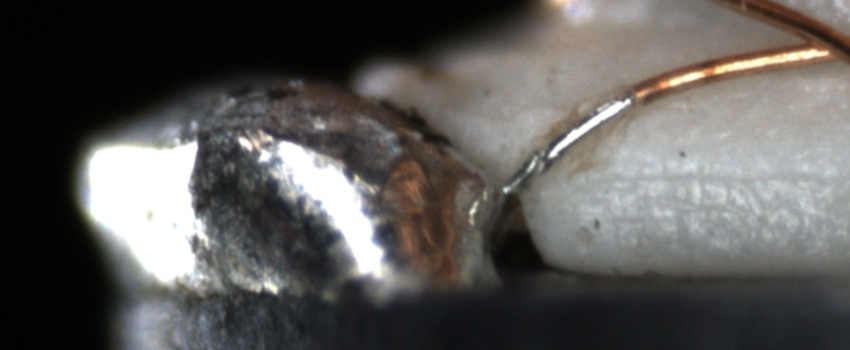CL: (772, 16, 849, 70)
DL: (561, 144, 850, 208)
TS: (502, 92, 635, 193)
TTCW: (495, 57, 711, 199)
